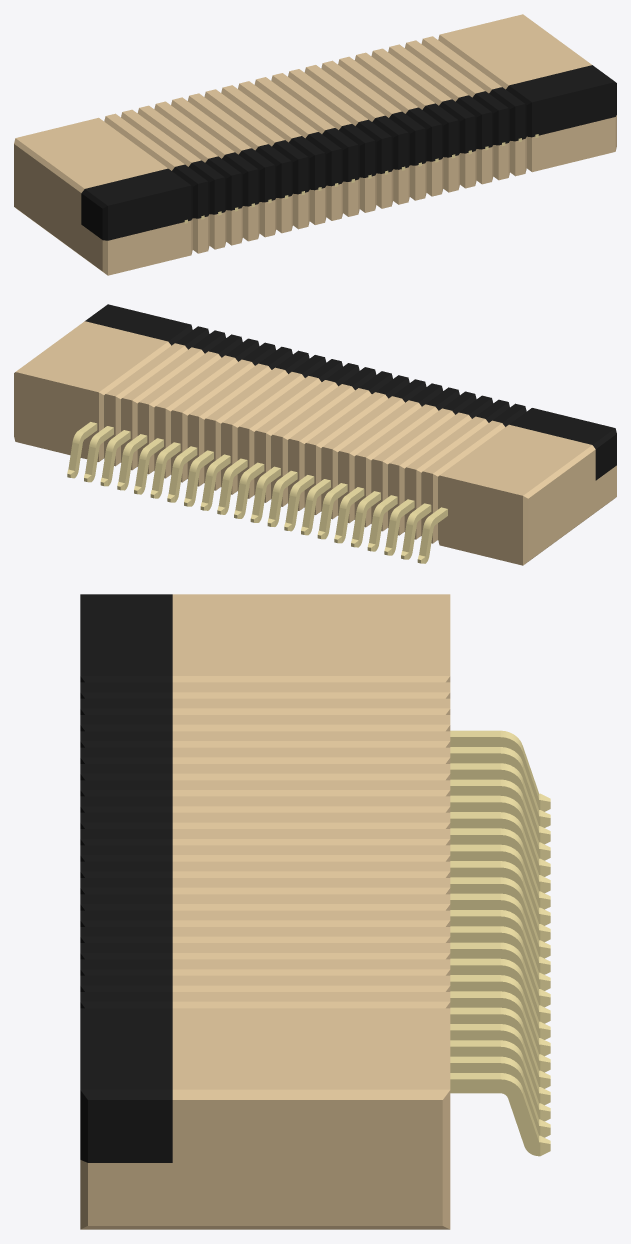
The model's file is sfe-fpc_0.5mm-22.glb.
3 views of the same model, one above another, from view 1: azimuth 30°, elevation 25°; view 2: azimuth 150°, elevation 25°; view 3: azimuth 270°, elevation 25° (orthographic). The views are drawn at different scales.
Parts seen in each view (by area): view 1: 0.75_0.5833333333333334_0.3333333333333333_0.9, 0_0_0_0; view 2: 0.75_0.5833333333333334_0.3333333333333333_0.9, 0.9166666666666666_0.75_0.4166666666666667_0.9, 0_0_0_0; view 3: 0.75_0.5833333333333334_0.3333333333333333_0.9, 0_0_0_0, 0.9166666666666666_0.75_0.4166666666666667_0.9.
Boxes of the visible parts, x1,y1,x2,y2 form: 0.75_0.5833333333333334_0.3333333333333333_0.9: (14, 14, 616, 275); 0_0_0_0: (81, 65, 616, 240); 0.75_0.5833333333333334_0.3333333333333333_0.9: (14, 321, 616, 565); 0.9166666666666666_0.75_0.4166666666666667_0.9: (67, 422, 447, 563); 0_0_0_0: (85, 304, 616, 480); 0.75_0.5833333333333334_0.3333333333333333_0.9: (80, 594, 450, 1229); 0_0_0_0: (80, 594, 172, 1162); 0.9166666666666666_0.75_0.4166666666666667_0.9: (450, 730, 550, 1156).
Size of the model in its own units: 1.54 by 0.2 by 0.6101.
